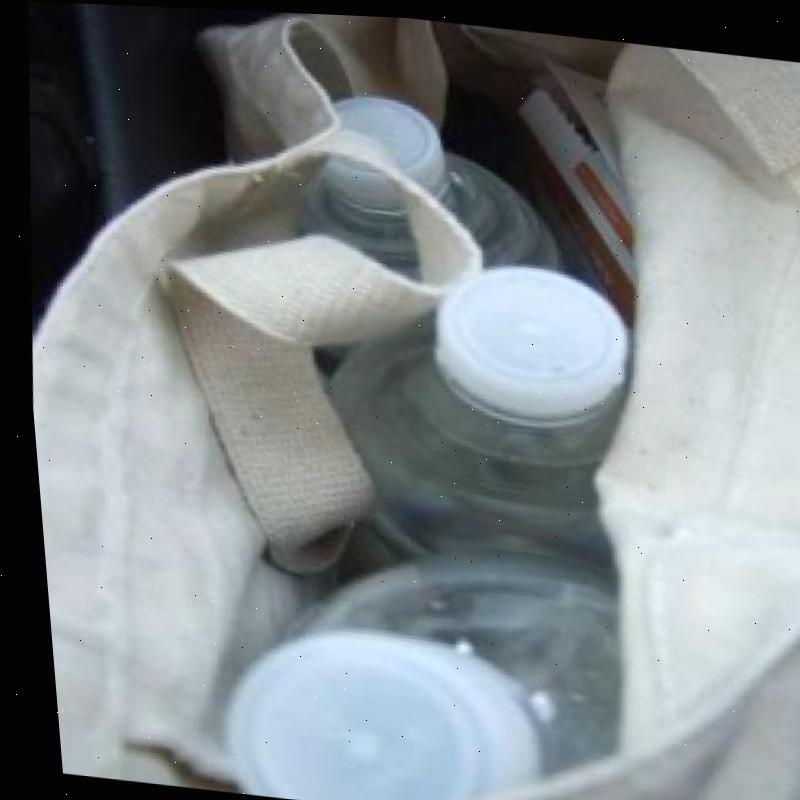botella: (297, 230, 661, 594), (194, 519, 646, 800), (280, 82, 567, 298)
